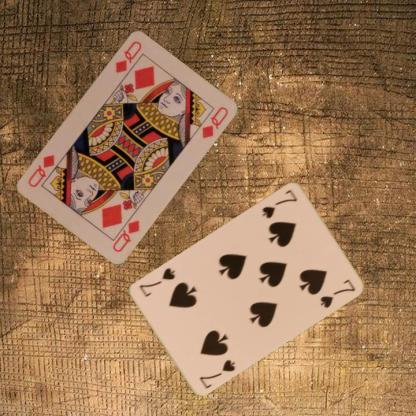7s: (196, 356, 237, 390), (259, 186, 299, 220)
Qd: (109, 209, 141, 254), (113, 37, 143, 77)
